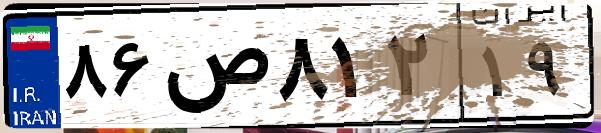1: (330, 28, 385, 110), (475, 38, 525, 113)
2: (385, 28, 445, 110)
6: (110, 28, 158, 98)
8: (270, 28, 330, 110), (57, 26, 110, 100)
9: (525, 38, 570, 115)
ص: (158, 20, 270, 120)
